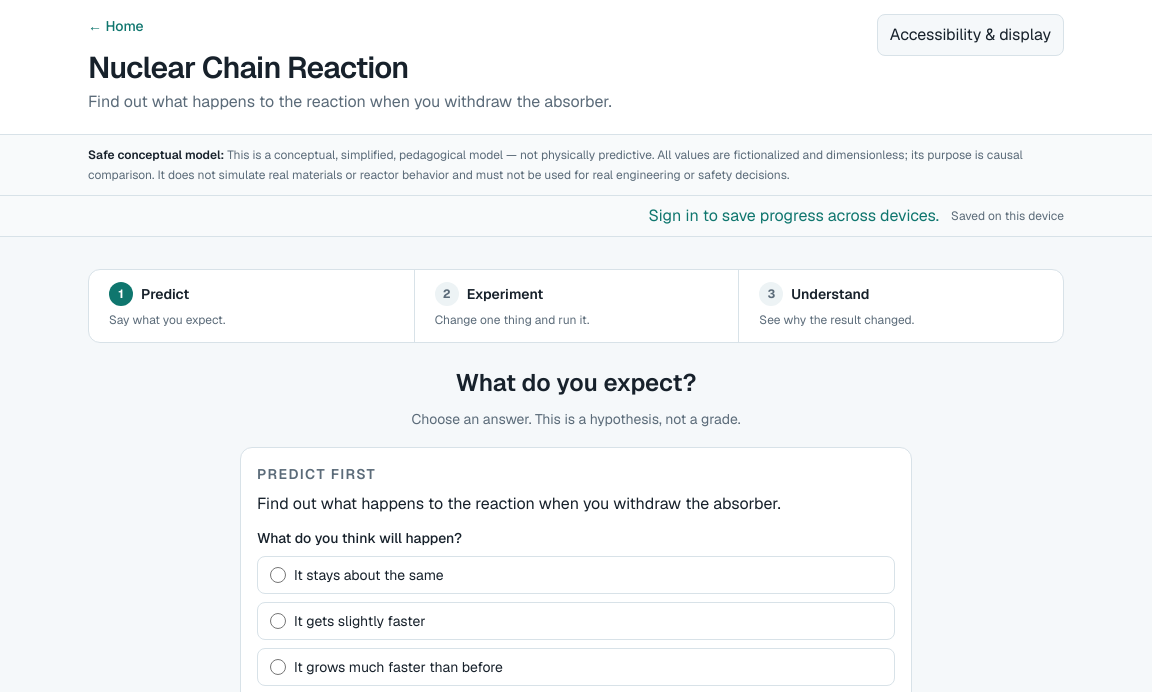
truthful change evidence › records first-trial changes against the real defaults
Click the radio button labelled "It gets slightly faster". click: (278, 621)
box: [270,613,286,629]
(page scrolled)
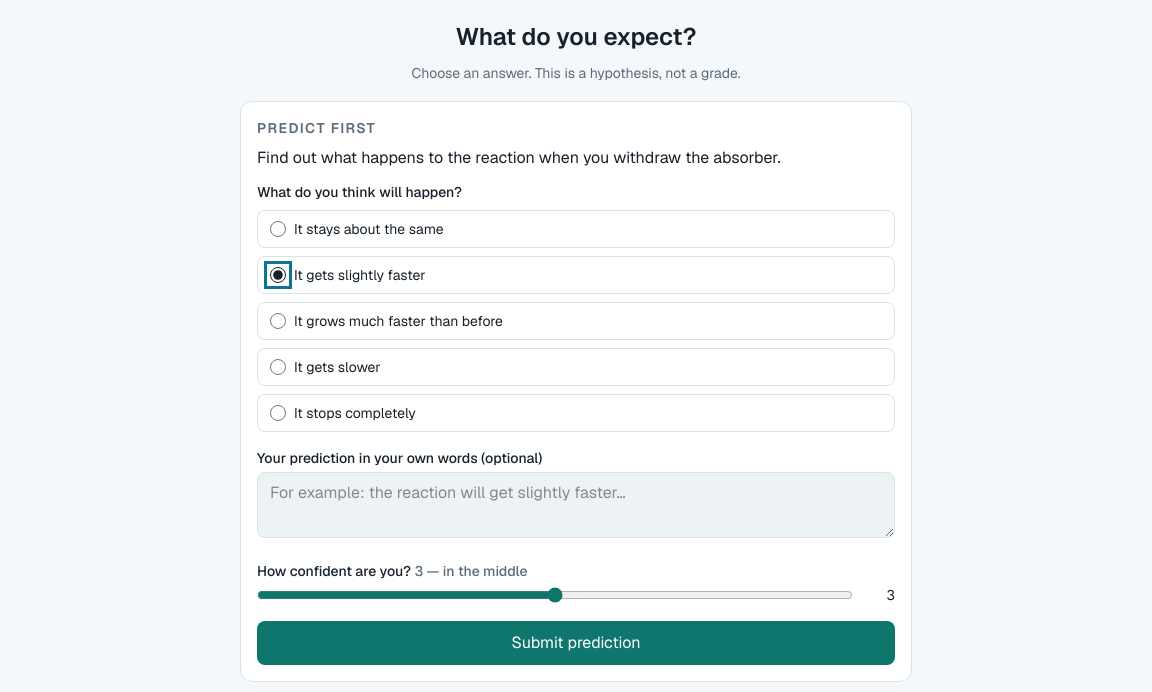
Click the button "Submit prediction". click: (576, 643)
box: [257,621,895,665]
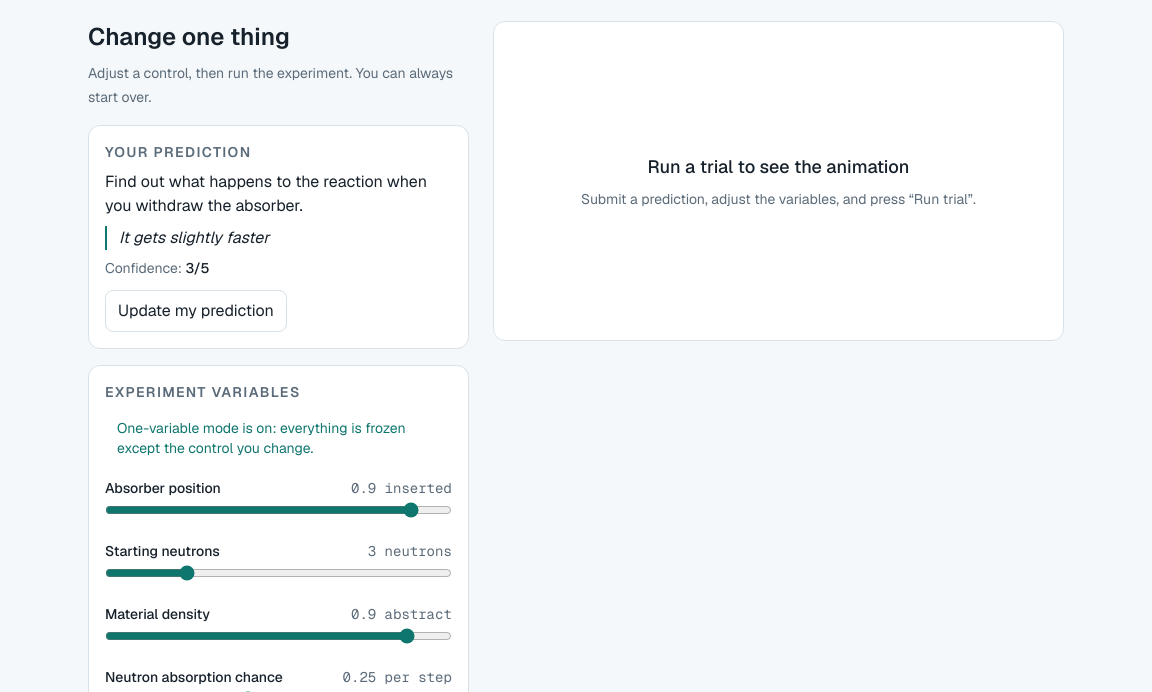
Set the slider labelled "Absorber position" to "0". click: (113, 510)
box: [105,502,452,518]
(page scrolled)
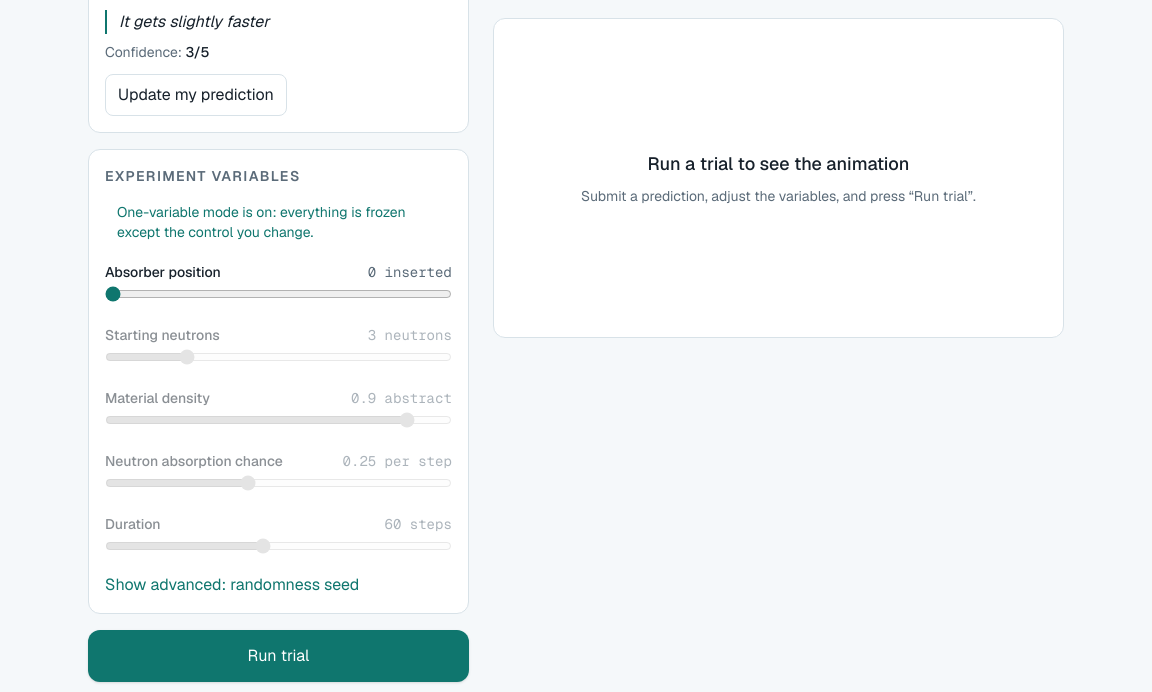
Click the button "Run trial". click: (278, 656)
box: [88,630,469,682]
(page scrolled)
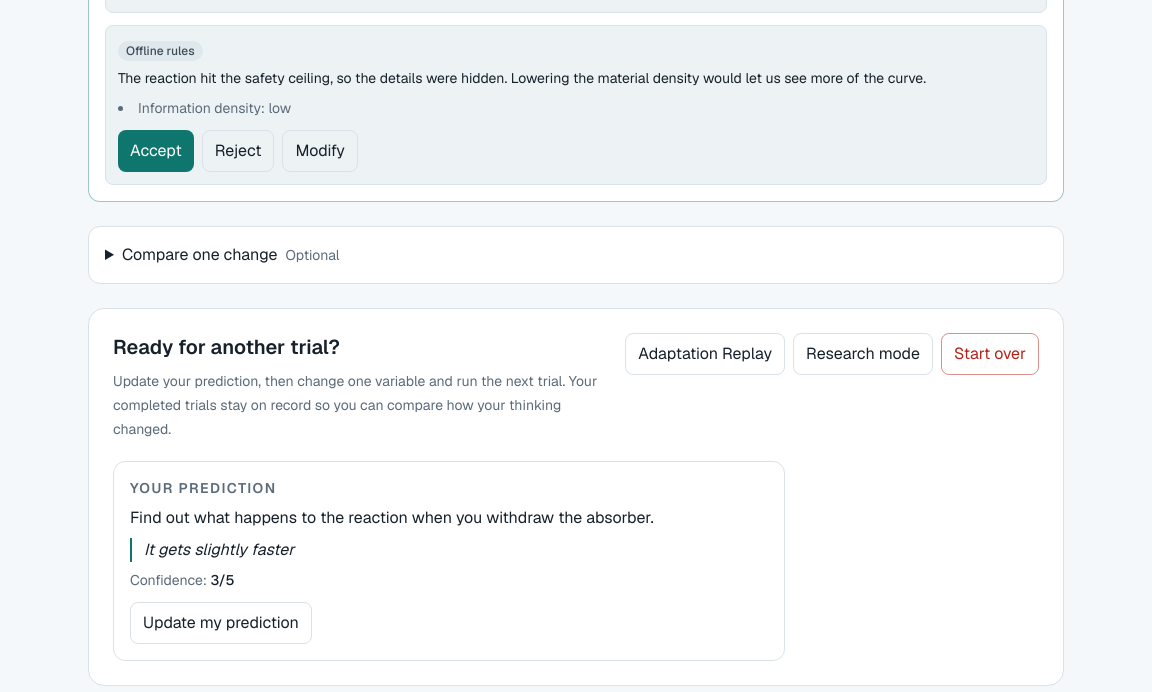
Click the button "Adaptation Replay". click: (705, 354)
box: [625,333,785,375]
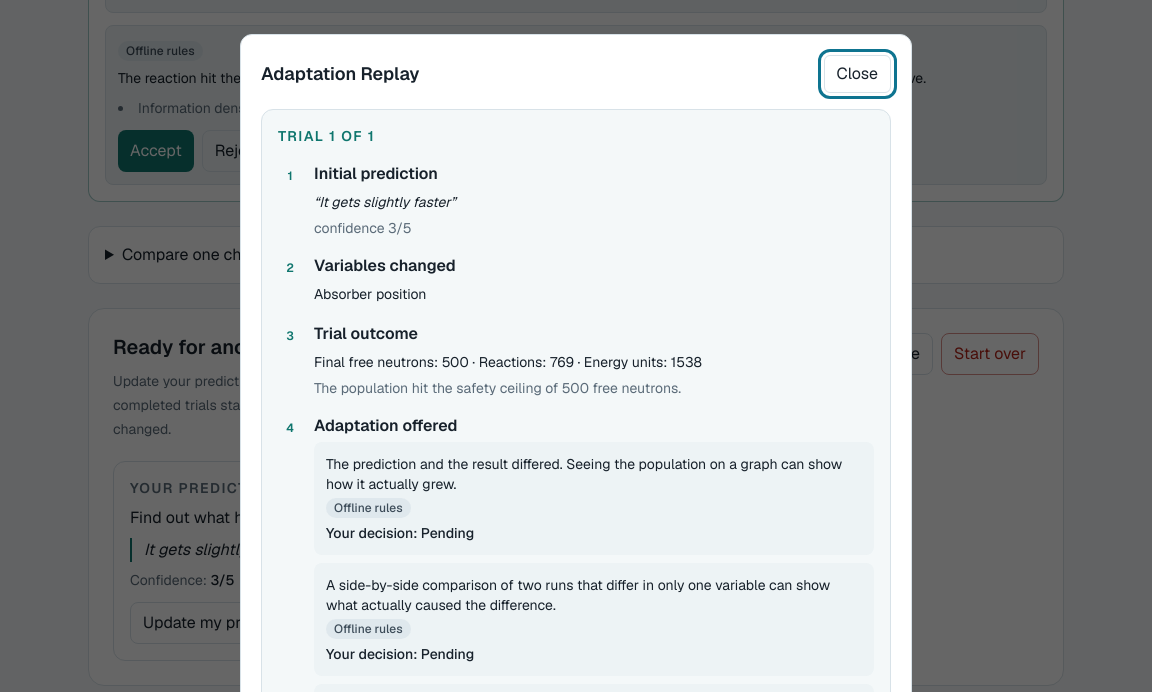
Expected: the text "Absorber position" is shown, [314,285,426,303]
